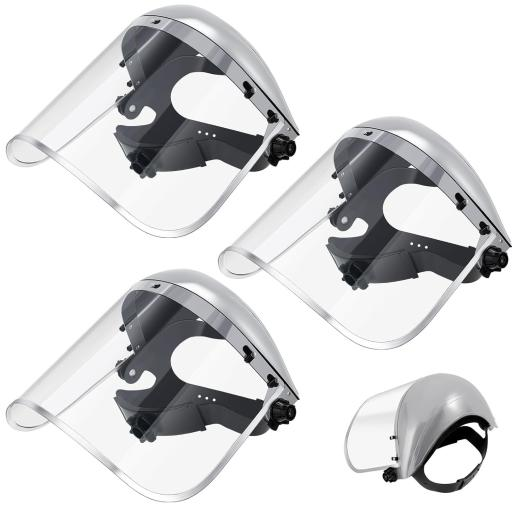mask: (49, 264, 283, 503), (56, 0, 265, 226), (320, 102, 512, 348), (342, 369, 508, 505)
